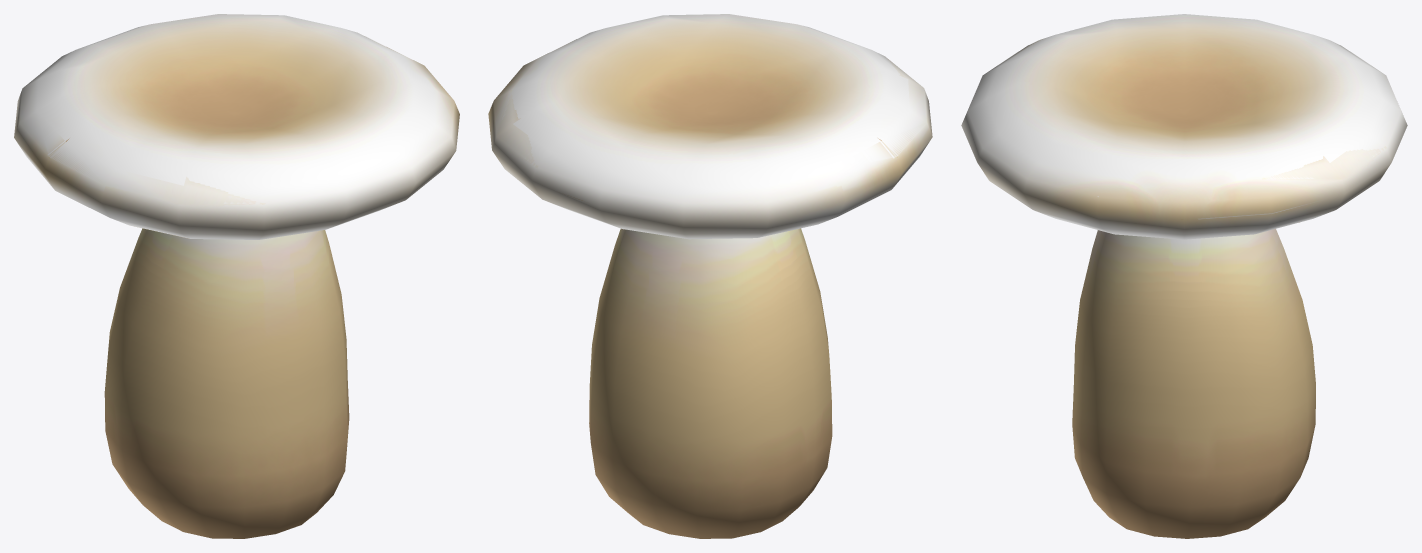
File: concaveMush.fbx
3 renders of one model, left to right at view 1: azimuth 30°, elevation 25°; view 2: azimuth 150°, elevation 25°; view 3: azimuth 270°, elevation 25°, orthographic.
Parts seen in each view (by area): view 1: Cube.005; view 2: Cube.005; view 3: Cube.005.
Boxes of the visible parts, box(x1,y1,x2,y2) form: Cube.005: box(14, 14, 459, 538); Cube.005: box(488, 14, 932, 538); Cube.005: box(961, 14, 1407, 538).
Bounding box in the file's own units: 273 × 284 × 273.
